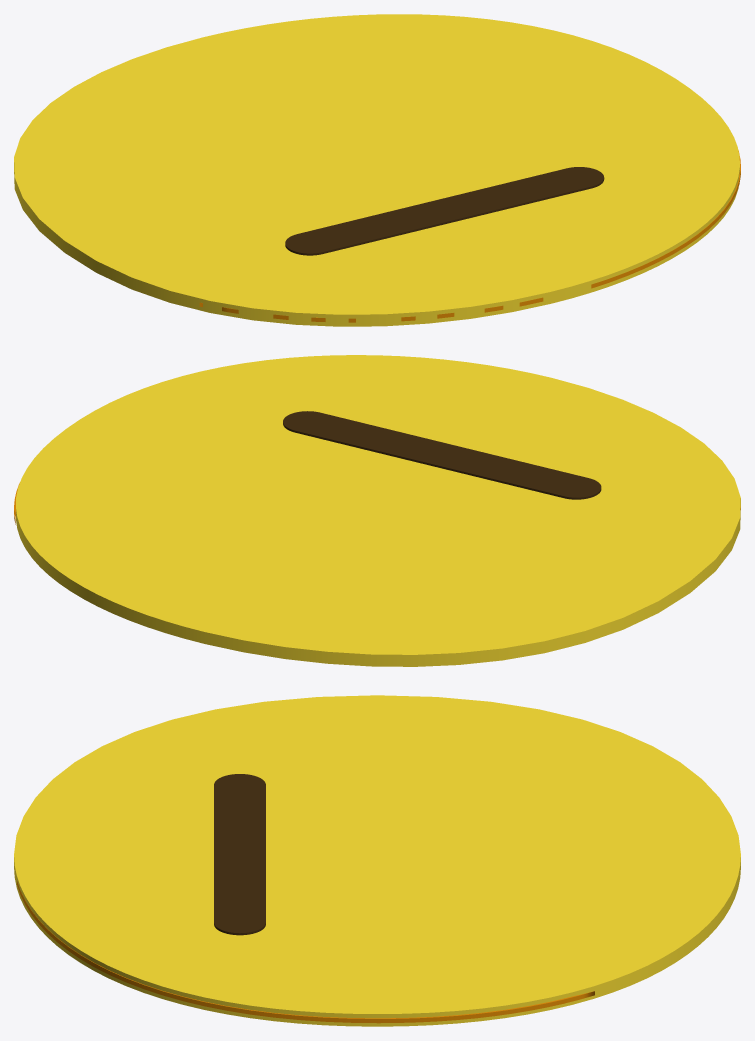
The model's file is emoji_u1f611.glb.
The picture shows the model from 3 angles, top to bottom: view 1: azimuth 30°, elevation 25°; view 2: azimuth 150°, elevation 25°; view 3: azimuth 270°, elevation 25°; orthographic projection. The views are drawn at different scales.
Visible parts, largest first — view 1: emoji_u1f611; view 2: emoji_u1f611; view 3: emoji_u1f611.
Boxes of the visible parts, box(x1,y1,x2,y2) form: emoji_u1f611: box(14, 14, 740, 326); emoji_u1f611: box(14, 355, 740, 666); emoji_u1f611: box(14, 695, 740, 1026).
Size of the model in its own units: 0.0327 by 0.0008 by 0.0315.
